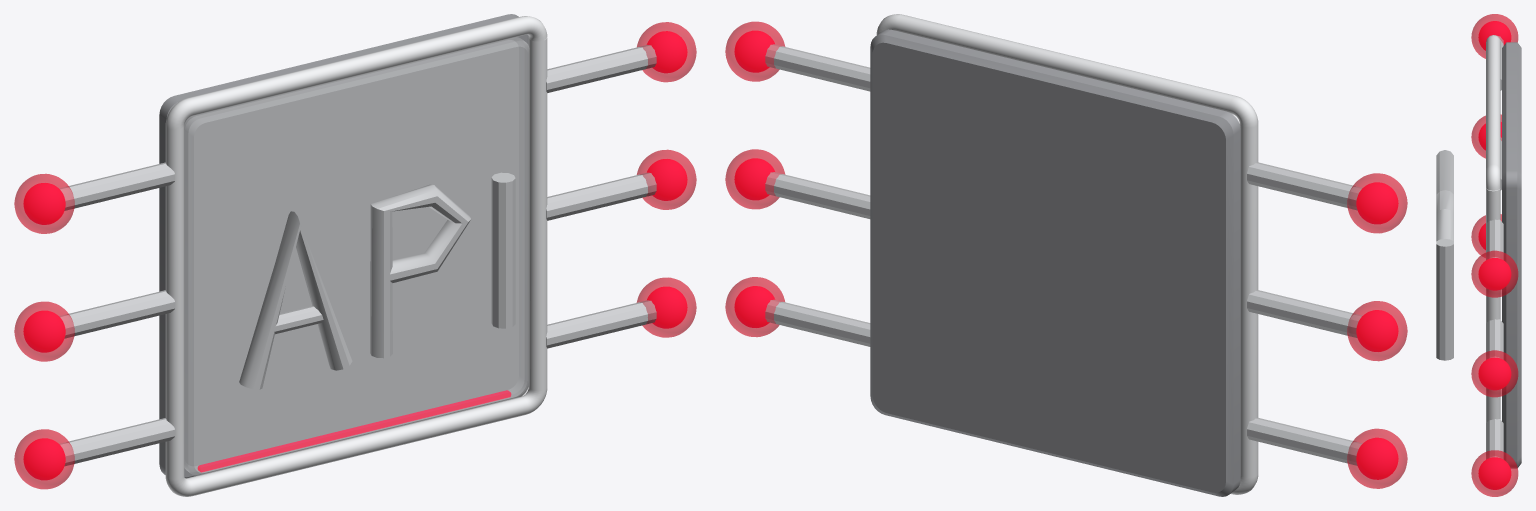
File: 14-api.glb
3 views of the same model, side by side, from view 1: azimuth 30°, elevation 25°; view 2: azimuth 150°, elevation 25°; view 3: azimuth 270°, elevation 25° (orthographic). The views are drawn at different scales.
Parts seen in each view (by area): view 1: BC brushed iron, BC clear optical glass, BC satin iron, BC polished iron bevel, BC ruby optical glass, BC internal ruby light; view 2: BC brushed iron, BC ruby optical glass, BC satin iron, BC polished iron bevel, BC internal ruby light; view 3: BC brushed iron, BC ruby optical glass, BC satin iron, BC polished iron bevel, BC internal ruby light.
Part boxes in pixels (<box>): BC brushed iron: <box>159,14,528,478</box>; BC clear optical glass: <box>184,37,529,475</box>; BC satin iron: <box>59,45,656,465</box>; BC polished iron bevel: <box>165,16,547,496</box>; BC ruby optical glass: <box>14,22,696,489</box>; BC internal ruby light: <box>23,31,687,480</box>; BC brushed iron: <box>870,29,1240,496</box>; BC ruby optical glass: <box>725,21,1407,488</box>; BC satin iron: <box>765,44,1362,465</box>; BC polished iron bevel: <box>876,14,1258,494</box>; BC internal ruby light: <box>734,30,1398,479</box>; BC brushed iron: <box>1502,42,1521,468</box>; BC ruby optical glass: <box>1471,14,1518,496</box>; BC satin iron: <box>1436,35,1503,458</box>; BC polished iron bevel: <box>1486,35,1500,451</box>; BC internal ruby light: <box>1478,21,1511,489</box>.
Bounding box in the file's own units: 2.32 × 1.31 × 0.3267.
